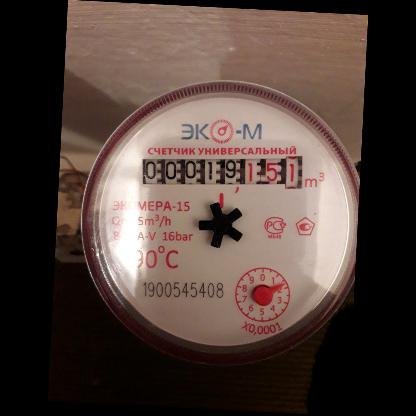digital_screen: (138, 154, 246, 190)
